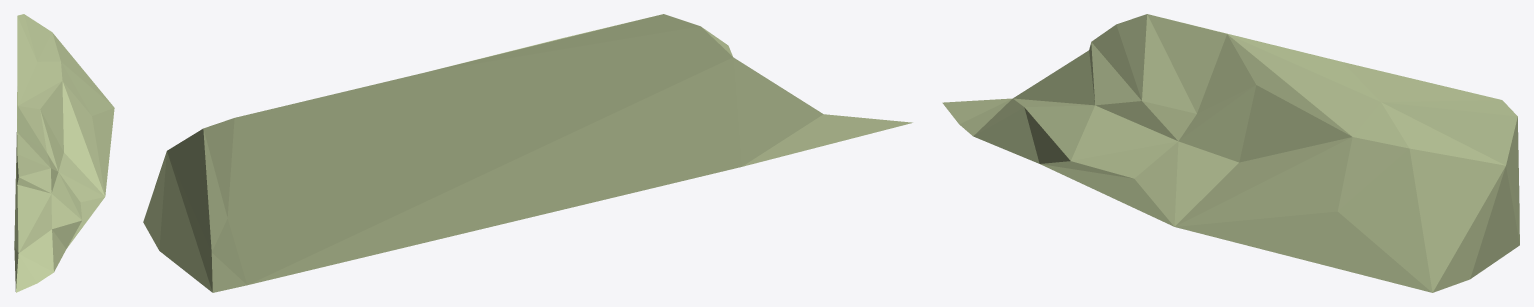
The model's file is hill_22.gltf.
The picture shows the model from 3 angles, left to right: view 1: azimuth 30°, elevation 25°; view 2: azimuth 150°, elevation 25°; view 3: azimuth 270°, elevation 25°; orthographic projection. The views are drawn at different scales.
Visible parts, largest first — view 1: hill; view 2: hill; view 3: hill.
Part boxes in pixels (<box>): hill: <box>14,14,114,292</box>; hill: <box>143,14,912,292</box>; hill: <box>942,14,1519,292</box>.
Bounding box in the file's own units: 5.21 × 1.81 × 6.64.
